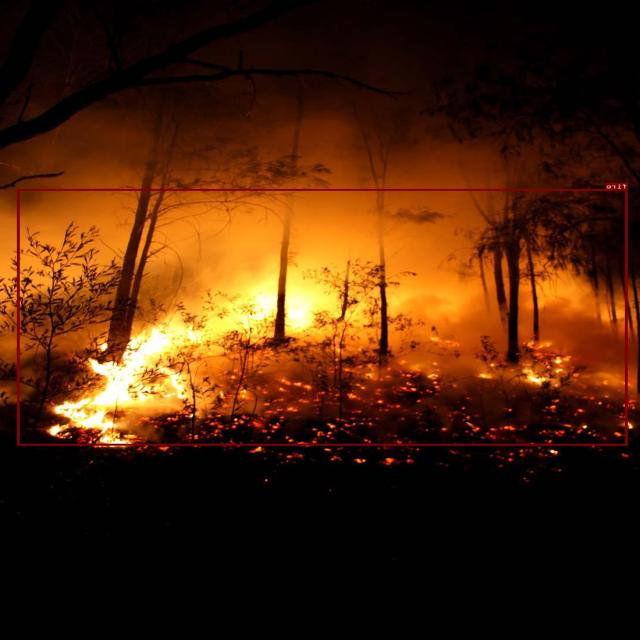fire: (18, 189, 628, 445)
